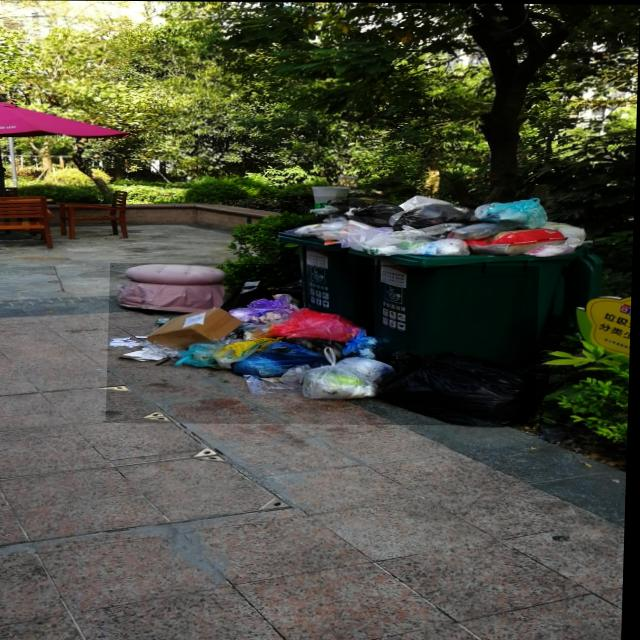garbage: (108, 263, 541, 425)
overflow: (346, 196, 607, 369), (279, 196, 375, 326)
